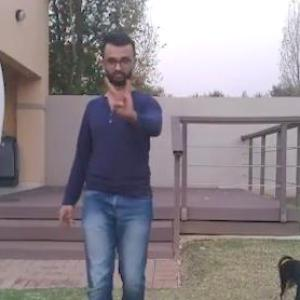takeoff-hand: (101, 70, 147, 121)
